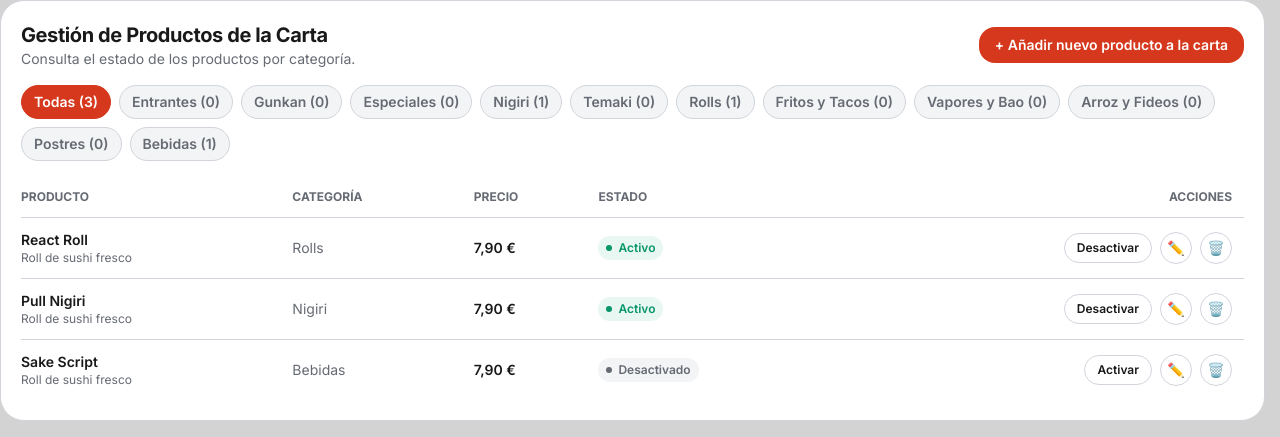
it: AdminProductsPanel › filtering by category › shows the empty message when the category has no products
Click the button with class "category-filters__button" showing "Postres (0)" at (71, 144), box [21,127,122,161]
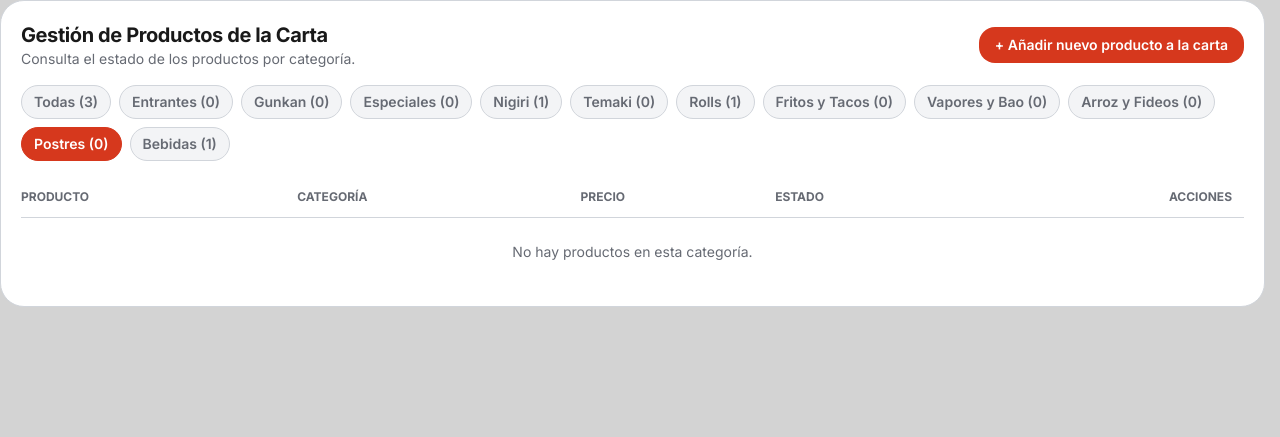
expect the text "No hay productos en esta categoría." is shown: met, box [21,218,1244,286]
